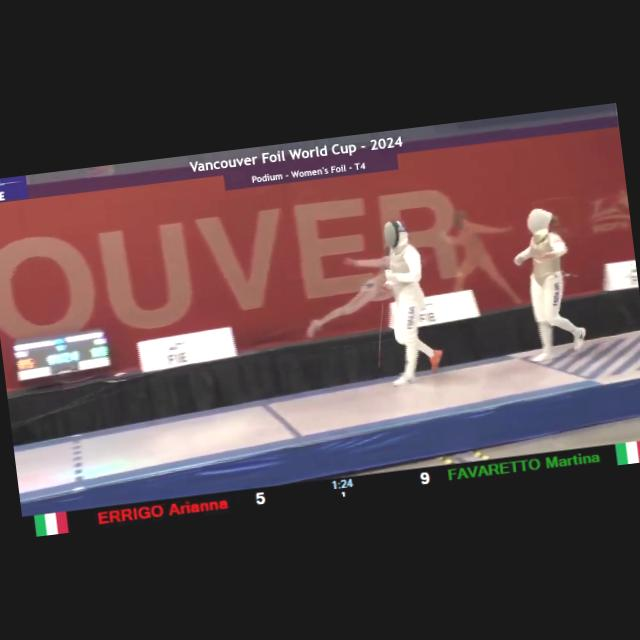blade: (368, 282, 398, 368)
